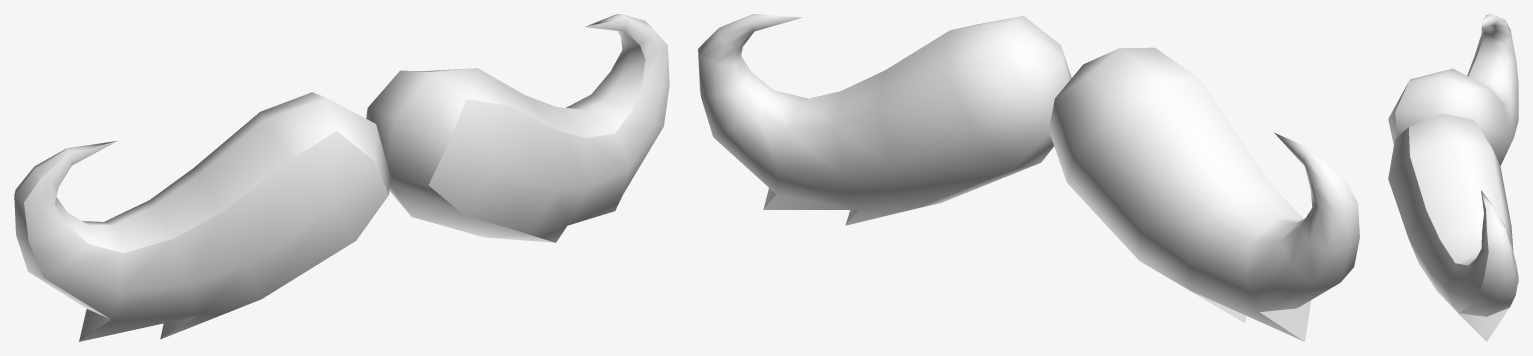
File: Mouth_Mustache_02.fbx
3 renders of one model, left to right at view 1: azimuth 30°, elevation 25°; view 2: azimuth 150°, elevation 25°; view 3: azimuth 270°, elevation 25°, orthographic. The views are drawn at different scales.
Parts seen in each view (by area): view 1: Mouth_Mustache_02; view 2: Mouth_Mustache_02; view 3: Mouth_Mustache_02.
Boxes of the visible parts, x1,y1,x2,y2 form: Mouth_Mustache_02: (14, 14, 669, 341); Mouth_Mustache_02: (698, 14, 1359, 341); Mouth_Mustache_02: (1388, 14, 1518, 341).
Bounding box in the file's own units: 101 × 33.03 × 24.72.
